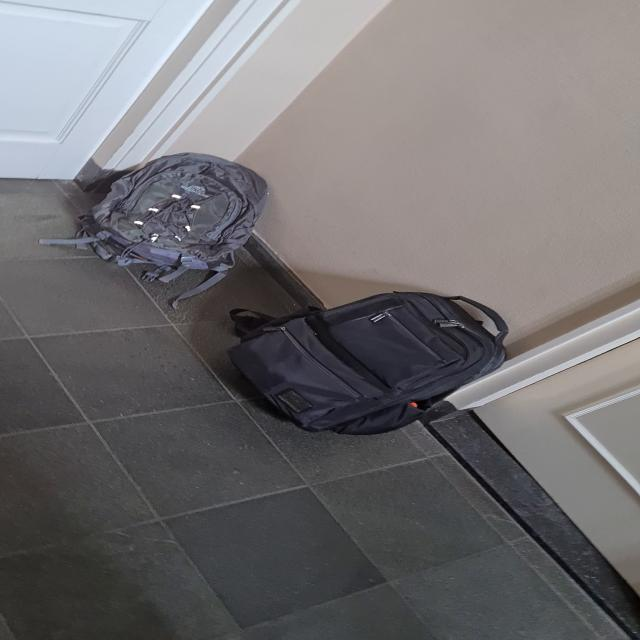backpack: (214, 289, 516, 439), (85, 150, 278, 282)
